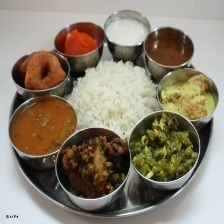rice: (74, 59, 158, 138)
